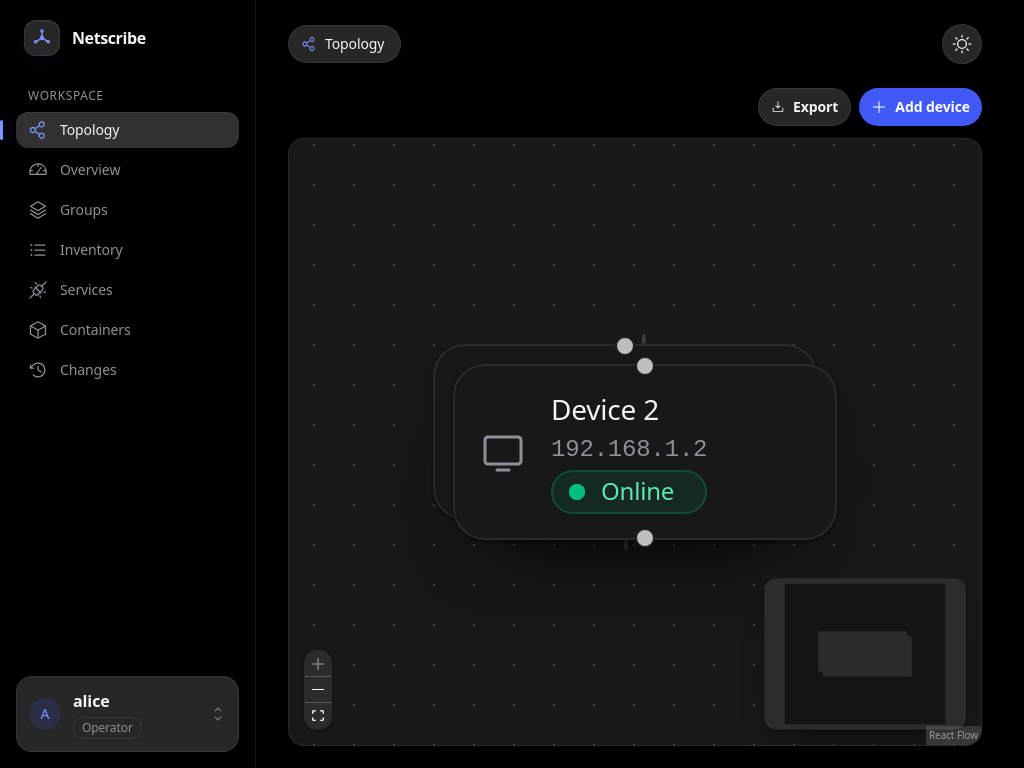
Test: adding a device › shows the message of a rejected form
Click the button "Add device": (921, 107) [859,88,982,126]
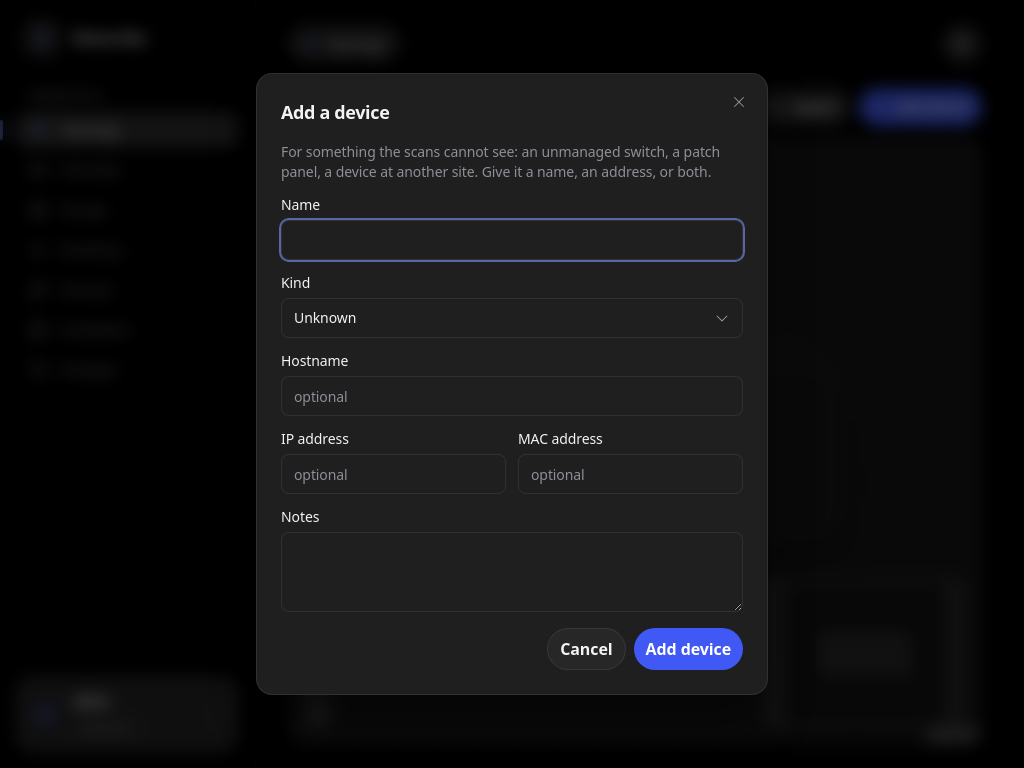
In the field labelled "IP address": (394, 474) [281,454,506,494], type "999.1.1.1"
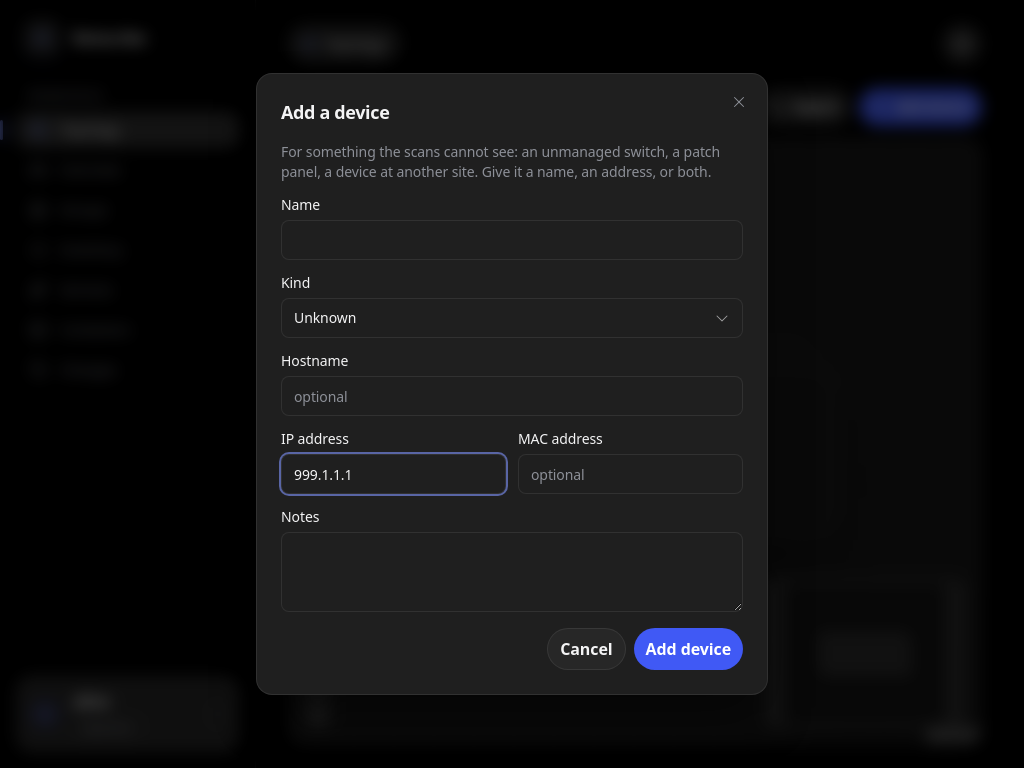
Click the button "Add device": (688, 649) [634,628,743,670]
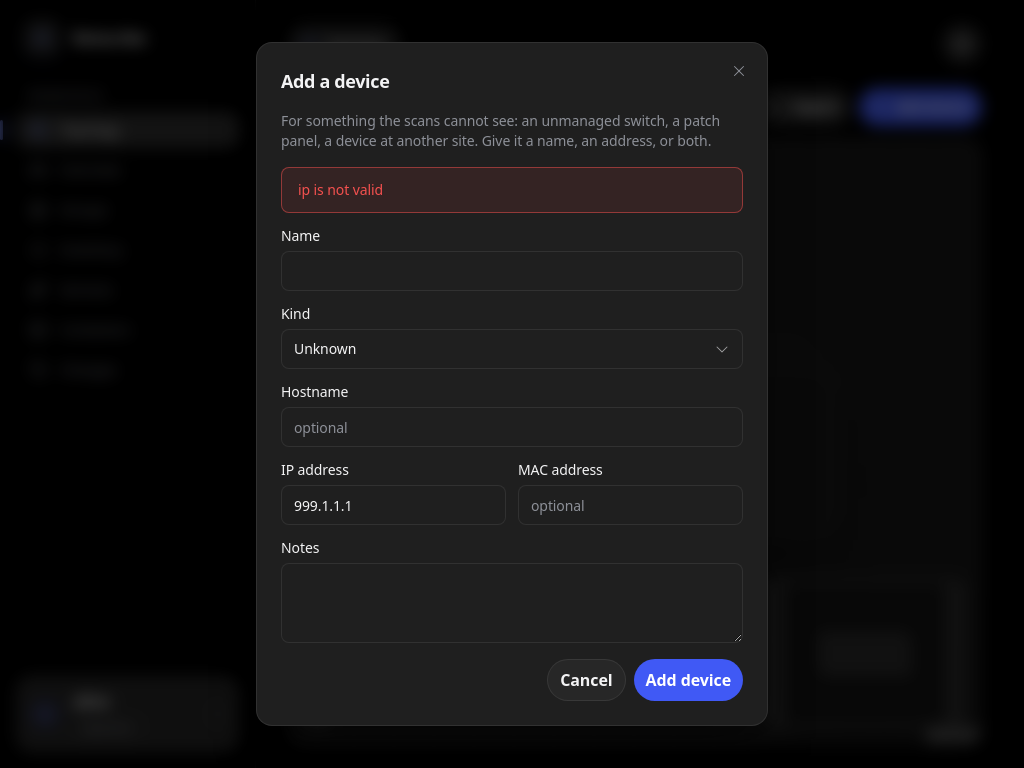
Expected: the message reads "ip is not valid", [298,180,383,199]
